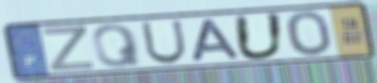A: (190, 17, 244, 63)
O: (283, 9, 336, 59)
Q: (89, 22, 146, 69)
U: (231, 11, 288, 62), (139, 19, 189, 66)
Z: (41, 25, 97, 73)
